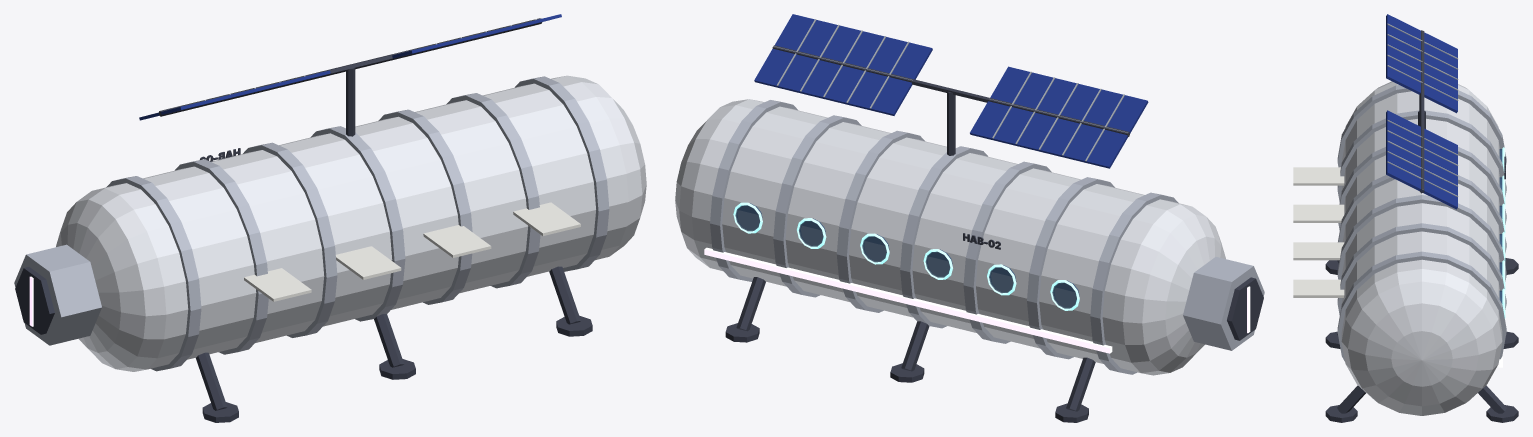
File: HabModule.fbx
3 views of the same model, side by side, from view 1: azimuth 30°, elevation 25°; view 2: azimuth 150°, elevation 25°; view 3: azimuth 270°, elevation 25° (orthographic). The views are drawn at different scales.
Parts seen in each view (by area): view 1: HabModule_MoonWhite, HabModule_MoonPanel, HabModule_MoonDark, HabModule_White, HabModule_Solar; view 2: HabModule_MoonWhite, HabModule_MoonPanel, HabModule_Solar, HabModule_MoonDark, HabModule_NeonPurple, HabModule_GlassDark, HabModule_Metal, HabModule_NeonCyan; view 3: HabModule_MoonWhite, HabModule_MoonPanel, HabModule_Solar, HabModule_White, HabModule_MoonDark, HabModule_Metal, HabModule_NeonCyan, HabModule_GlassDark.
Boxes of the visible parts, left/top/right/bottom form: HabModule_MoonWhite: left=56, top=75, right=646, bottom=371; HabModule_MoonPanel: left=14, top=76, right=609, bottom=371; HabModule_MoonDark: left=15, top=18, right=592, bottom=422; HabModule_White: left=244, top=202, right=580, bottom=301; HabModule_Solar: left=139, top=14, right=561, bottom=120; HabModule_MoonWhite: left=675, top=99, right=1225, bottom=375; HabModule_MoonPanel: left=710, top=100, right=1264, bottom=374; HabModule_Solar: left=754, top=14, right=1148, bottom=168; HabModule_MoonDark: left=725, top=45, right=1263, bottom=422; HabModule_NeonPurple: left=704, top=247, right=1250, bottom=353; HabModule_GlassDark: left=735, top=203, right=1079, bottom=308; HabModule_Metal: left=774, top=19, right=1127, bottom=161; HabModule_NeonCyan: left=733, top=202, right=1079, bottom=310; HabModule_MoonWhite: left=1341, top=81, right=1502, bottom=415; HabModule_MoonPanel: left=1337, top=85, right=1506, bottom=361; HabModule_Solar: left=1386, top=14, right=1457, bottom=209; HabModule_White: left=1293, top=167, right=1344, bottom=297; HabModule_MoonDark: left=1325, top=30, right=1518, bottom=422; HabModule_Metal: left=1387, top=23, right=1458, bottom=196; HabModule_NeonCyan: left=1502, top=147, right=1505, bottom=318; HabModule_GlassDark: left=1499, top=149, right=1502, bottom=303.
Size of the model in its own units: 43.8 by 20.58 by 16.8.
